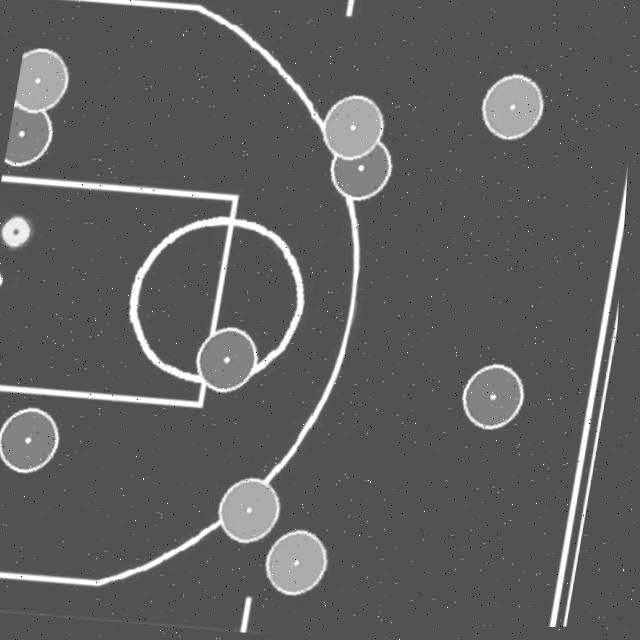Basketball: (3, 213, 37, 249)
Team_A: (201, 327, 262, 392), (468, 366, 529, 431), (4, 407, 65, 471), (333, 144, 393, 201), (7, 104, 54, 165)
Team_B: (483, 75, 545, 141), (273, 531, 335, 595), (323, 96, 385, 160), (226, 478, 286, 542), (16, 48, 69, 111)
